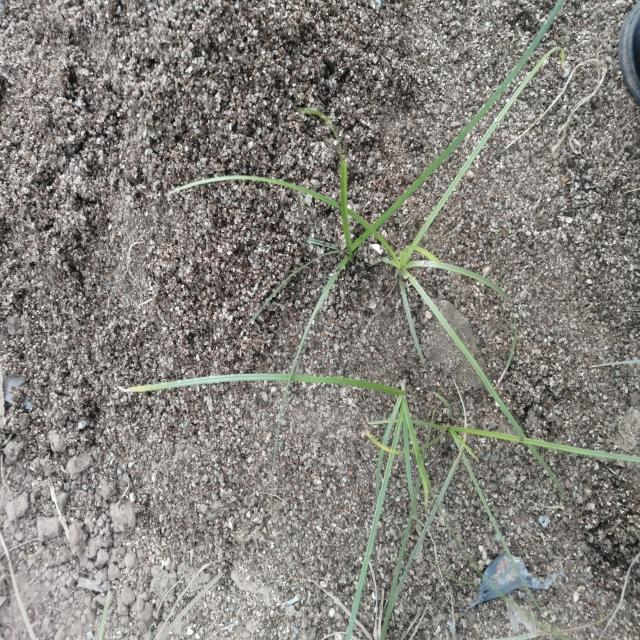sedge: (214, 62, 565, 355), (178, 344, 571, 572)
